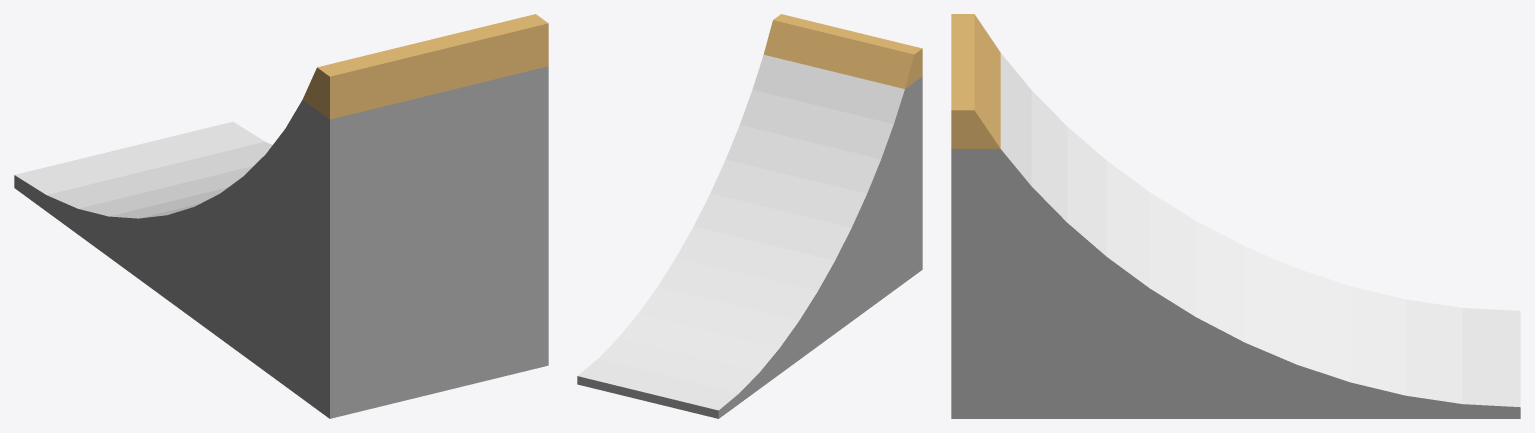
File: StepUpHigh_10x25x15.fbx
3 renders of one model, left to right at view 1: azimuth 30°, elevation 25°; view 2: azimuth 150°, elevation 25°; view 3: azimuth 270°, elevation 25°, orthographic. The views are drawn at different scales.
Parts seen in each view (by area): view 1: StepUpHigh_10x25x15; view 2: StepUpHigh_10x25x15; view 3: StepUpHigh_10x25x15.
Boxes of the visible parts, x1=… form: StepUpHigh_10x25x15: x1=14, y1=14, x2=548, y2=418; StepUpHigh_10x25x15: x1=577, y1=14, x2=922, y2=418; StepUpHigh_10x25x15: x1=951, y1=14, x2=1520, y2=418.
Size of the model in its own units: 10.01 by 14.97 by 25.01.
